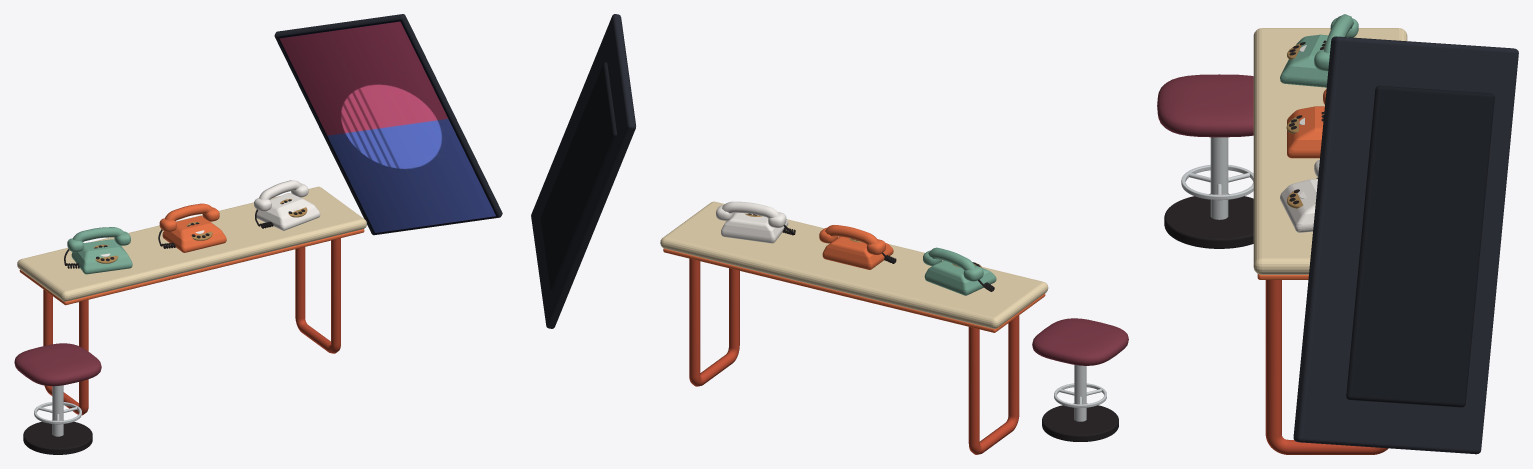
The model's file is exchange.glb.
3 views of the same model, side by side, from view 1: azimuth 30°, elevation 25°; view 2: azimuth 150°, elevation 25°; view 3: azimuth 270°, elevation 25° (orthographic). The views are drawn at different scales.
Parts seen in each view (by area): view 1: TV / active picture.009, TV / active picture.008, Lacquered counter, Vinyl seat, TV / graphite frame.004, Bent tubular trestle.001, Weighted foot, TV / glass surround.004, Bent tubular trestle, Edge band, Bakelite bell housing, Bakelite bell housing.001 (+4 smaller); view 2: Lacquered counter, TV / graphite frame.004, TV / rear enclosure.004, Vinyl seat, Bent tubular trestle, Bent tubular trestle.001, Weighted foot, Edge band, Bakelite bell housing.001, Bakelite bell housing.002, Bakelite bell housing, Adjustable post (+1 smaller); view 3: TV / graphite frame.004, TV / rear enclosure.004, Lacquered counter, Vinyl seat, Bent tubular trestle.001, Weighted foot, Bakelite bell housing, Bakelite bell housing.001, Adjustable post, Bakelite bell housing.002, Footrest, Receiver grip.
Part boxes in pixels (bbox=[...]): TV / active picture.009: bbox=[327, 119, 495, 232]; TV / active picture.008: bbox=[279, 21, 448, 135]; Lacquered counter: bbox=[17, 186, 366, 301]; Vinyl seat: bbox=[14, 343, 101, 386]; TV / graphite frame.004: bbox=[274, 14, 502, 235]; Bent tubular trestle.001: bbox=[295, 238, 340, 353]; Weighted foot: bbox=[23, 421, 92, 454]; TV / glass surround.004: bbox=[277, 19, 498, 234]; Bent tubular trestle: bbox=[43, 289, 88, 415]; Edge band: bbox=[19, 229, 364, 305]; Bakelite bell housing: bbox=[71, 239, 132, 274]; Bakelite bell housing.001: bbox=[162, 216, 226, 252]; Lacquered counter: bbox=[660, 201, 1048, 328]; TV / graphite frame.004: bbox=[531, 14, 635, 328]; TV / rear enclosure.004: bbox=[540, 62, 616, 290]; Vinyl seat: bbox=[1032, 318, 1128, 365]; Bent tubular trestle: bbox=[968, 315, 1019, 454]; Bent tubular trestle.001: bbox=[689, 258, 739, 386]; Weighted foot: bbox=[1042, 403, 1118, 441]; Edge band: bbox=[663, 248, 1045, 332]; Bakelite bell housing.001: bbox=[822, 236, 893, 269]; Bakelite bell housing.002: bbox=[721, 212, 788, 243]; Bakelite bell housing: bbox=[924, 260, 996, 295]; Adjustable post: bbox=[1074, 365, 1086, 421]; TV / graphite frame.004: bbox=[1293, 36, 1518, 454]; TV / rear enclosure.004: bbox=[1346, 85, 1494, 407]; Lacquered counter: bbox=[1253, 28, 1407, 274]; Vinyl seat: bbox=[1157, 74, 1253, 137]; Bent tubular trestle.001: bbox=[1265, 280, 1388, 454]; Weighted foot: bbox=[1164, 193, 1253, 248]; Bakelite bell housing: bbox=[1280, 34, 1348, 87]; Bakelite bell housing.001: bbox=[1287, 106, 1324, 158]; Adjustable post: bbox=[1210, 137, 1228, 219]; Bakelite bell housing.002: bbox=[1280, 178, 1317, 232]; Footrest: bbox=[1181, 164, 1253, 200]; Receiver grip: bbox=[1323, 14, 1354, 53].
Bounding box in the file's own units: 11.38 × 6.6 × 4.46.
14 materials, 2 textured.
